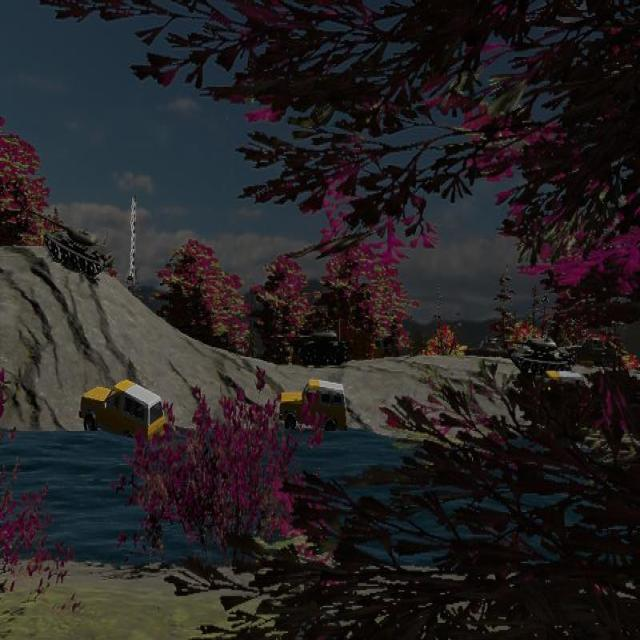Tank: (27, 207, 114, 279), (485, 334, 575, 374), (272, 328, 351, 367)
car: (79, 379, 165, 451), (279, 378, 347, 435)
